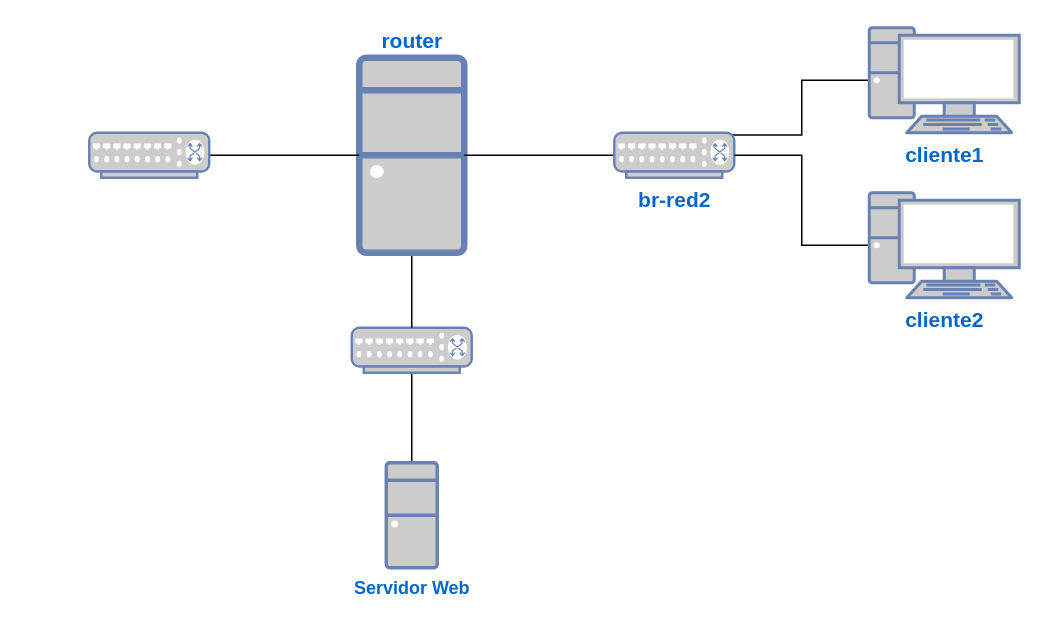
Some shapes in this 1046 by 624 pixel diagram are drawn without their labels. Here are the shapes that lost their labels. From the top down, the centre of each, then its label:
At [148,154]: "br-nat".
At [411,350]: "br-red1".
